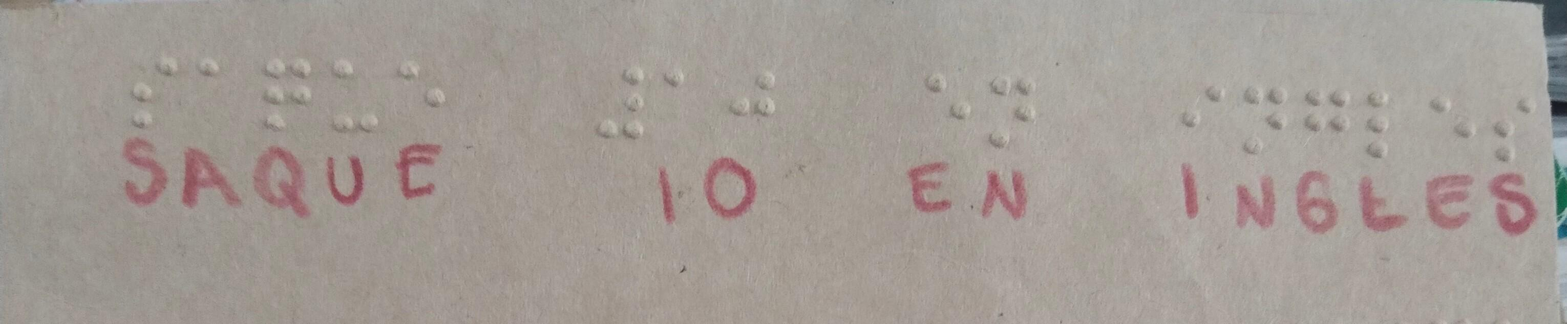01010: (589, 58, 804, 148)
a: (191, 46, 237, 97)
e: (912, 53, 975, 141), (1415, 78, 1482, 153), (394, 48, 454, 129)
g: (1297, 85, 1352, 143)
i: (1171, 82, 1232, 143)
l: (1350, 83, 1396, 164)
n: (976, 72, 1046, 152), (1234, 82, 1289, 164)
q: (256, 48, 326, 138)
s: (119, 43, 191, 140), (1483, 89, 1541, 174)
u: (321, 48, 391, 138)
